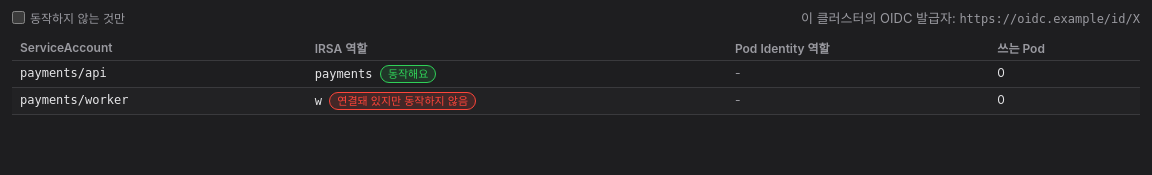
only broken connections can be filtered, and ⌘F matches names and roles
expect the text "payments/api" is shown: met, box [20, 66, 107, 80]
Click the checkbox labelled "동작하지 않는 것만" at (18, 18), box [12, 11, 25, 24]
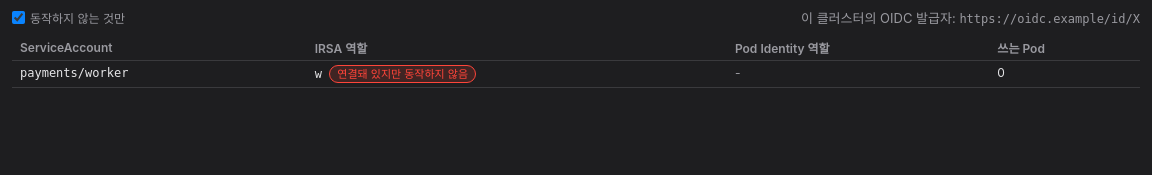
expect the text "payments/worker" is shown: met, box [20, 66, 128, 80]
expect the text "payments/api" is gone: met
Click the checkbox labelled "동작하지 않는 것만" at (18, 18), box [12, 11, 25, 24]
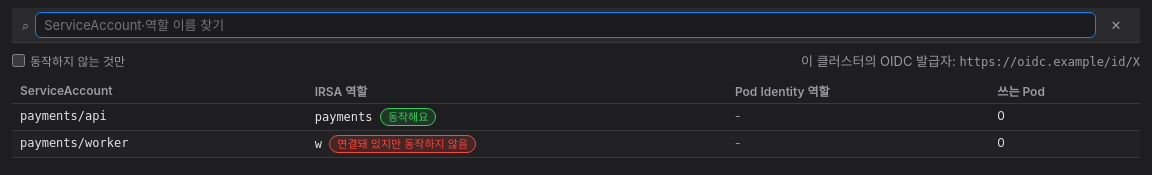
Type "TEAM/PAY" into the field named "목록에서 찾기" at (566, 25), box [35, 12, 1096, 38]
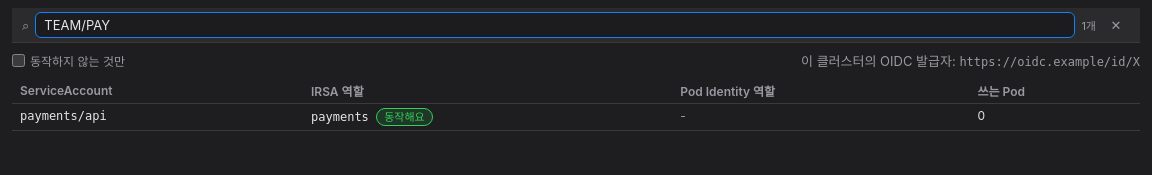
expect the text "payments/api" is shown: met, box [20, 109, 107, 123]
expect the text "payments/worker" is gone: met
